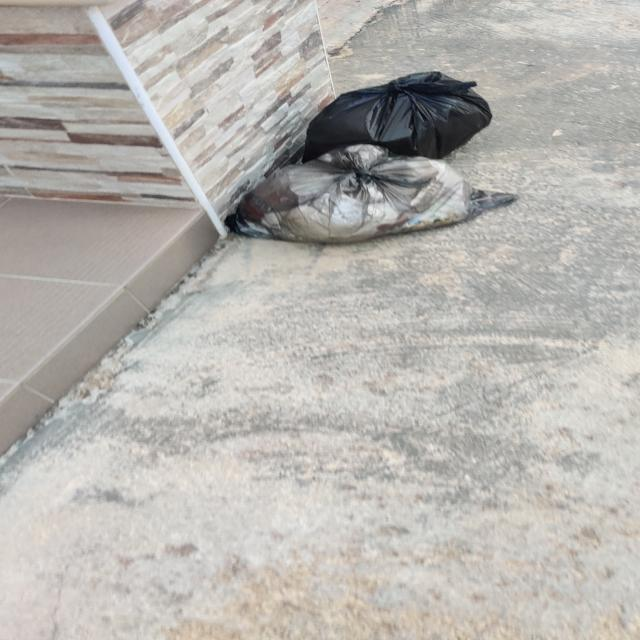Mixed Waste -Black Bags-: (223, 147, 526, 243), (291, 71, 491, 160)
